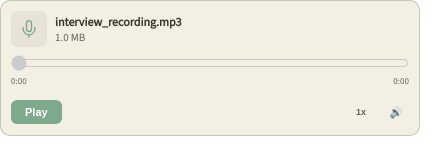
AudioAttachmentPlayer › toggles mute on button click
This screenshot has width=437, height=160.
Click the button with test id "audio-mute-button" at (396, 112), box [383,99,409,125]
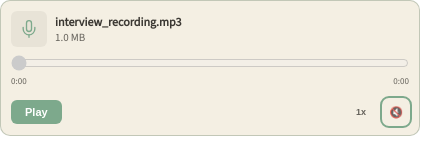
Result: the button with test id "audio-mute-button" reads "🔇"
Click the button with test id "audio-mute-button" at (396, 112), box [383,99,409,125]
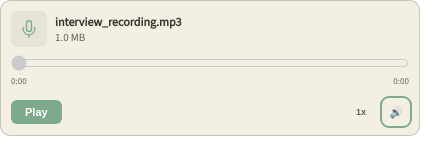
Result: the button with test id "audio-mute-button" reads "🔊" at [383,99,409,125]
